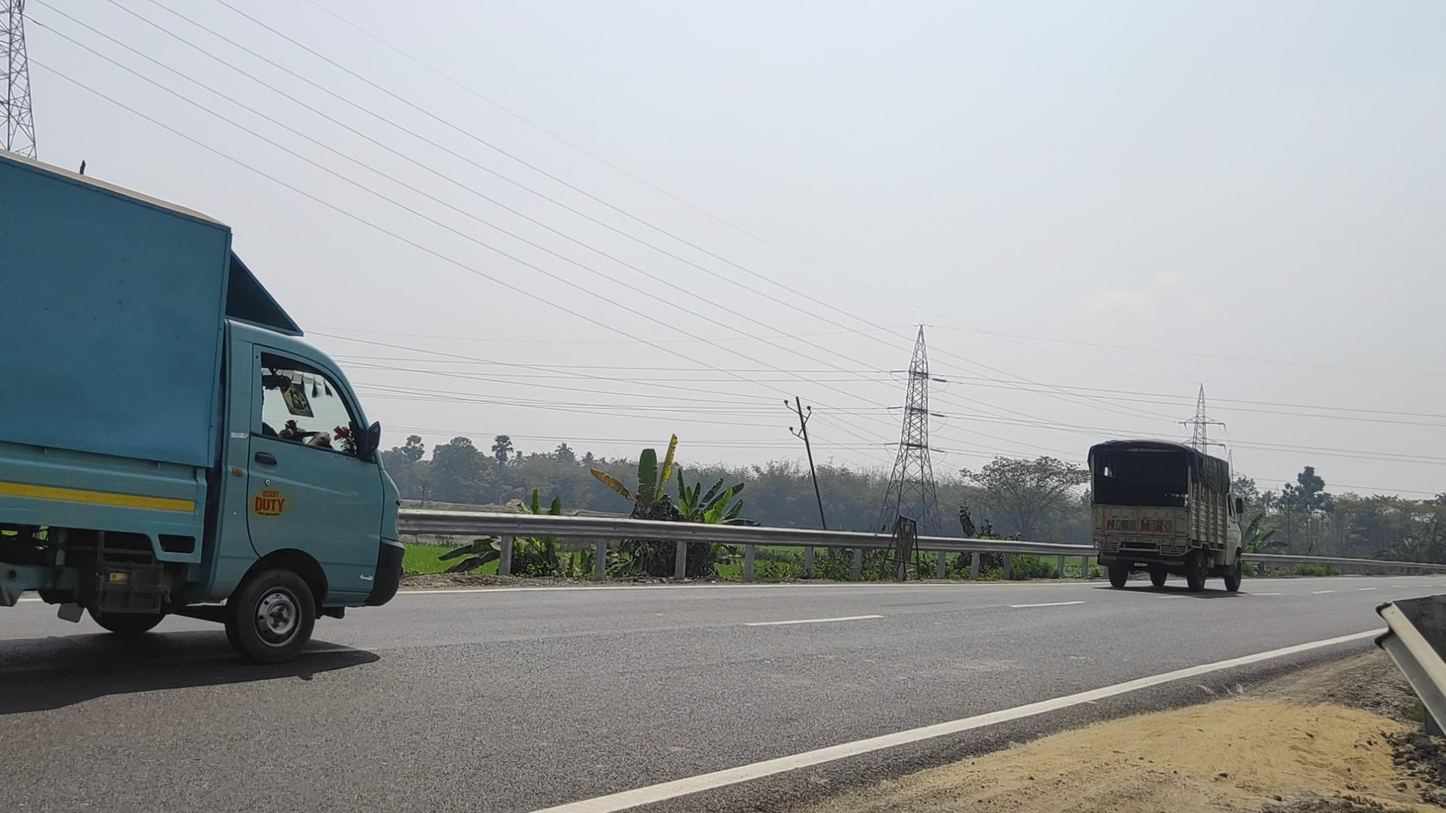truck: (1088, 440, 1244, 593)
van: (1, 149, 406, 664)
